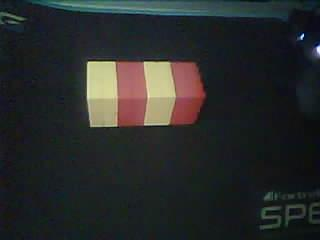lego: (86, 61, 207, 127)
